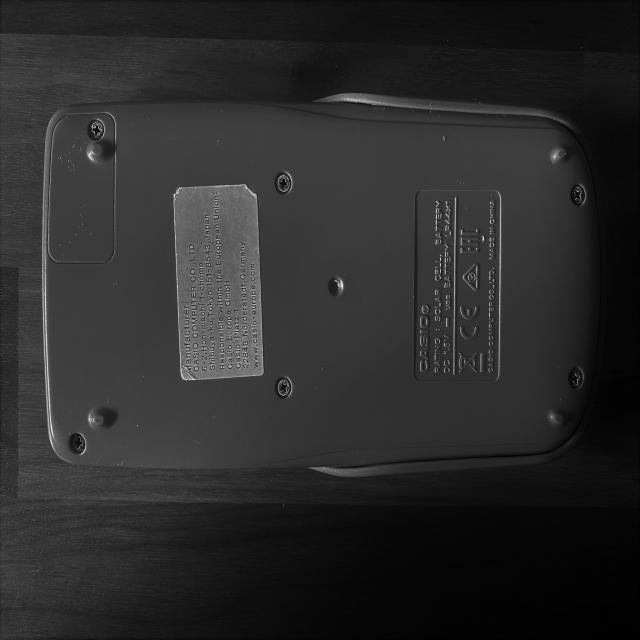PhillipsScrewHead: (70, 432, 86, 453), (569, 368, 584, 389), (88, 121, 105, 139), (277, 174, 291, 194), (276, 378, 290, 398), (573, 186, 584, 203)
